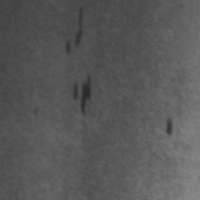inclusion: (63, 3, 89, 59), (70, 71, 96, 117), (163, 112, 177, 139)
